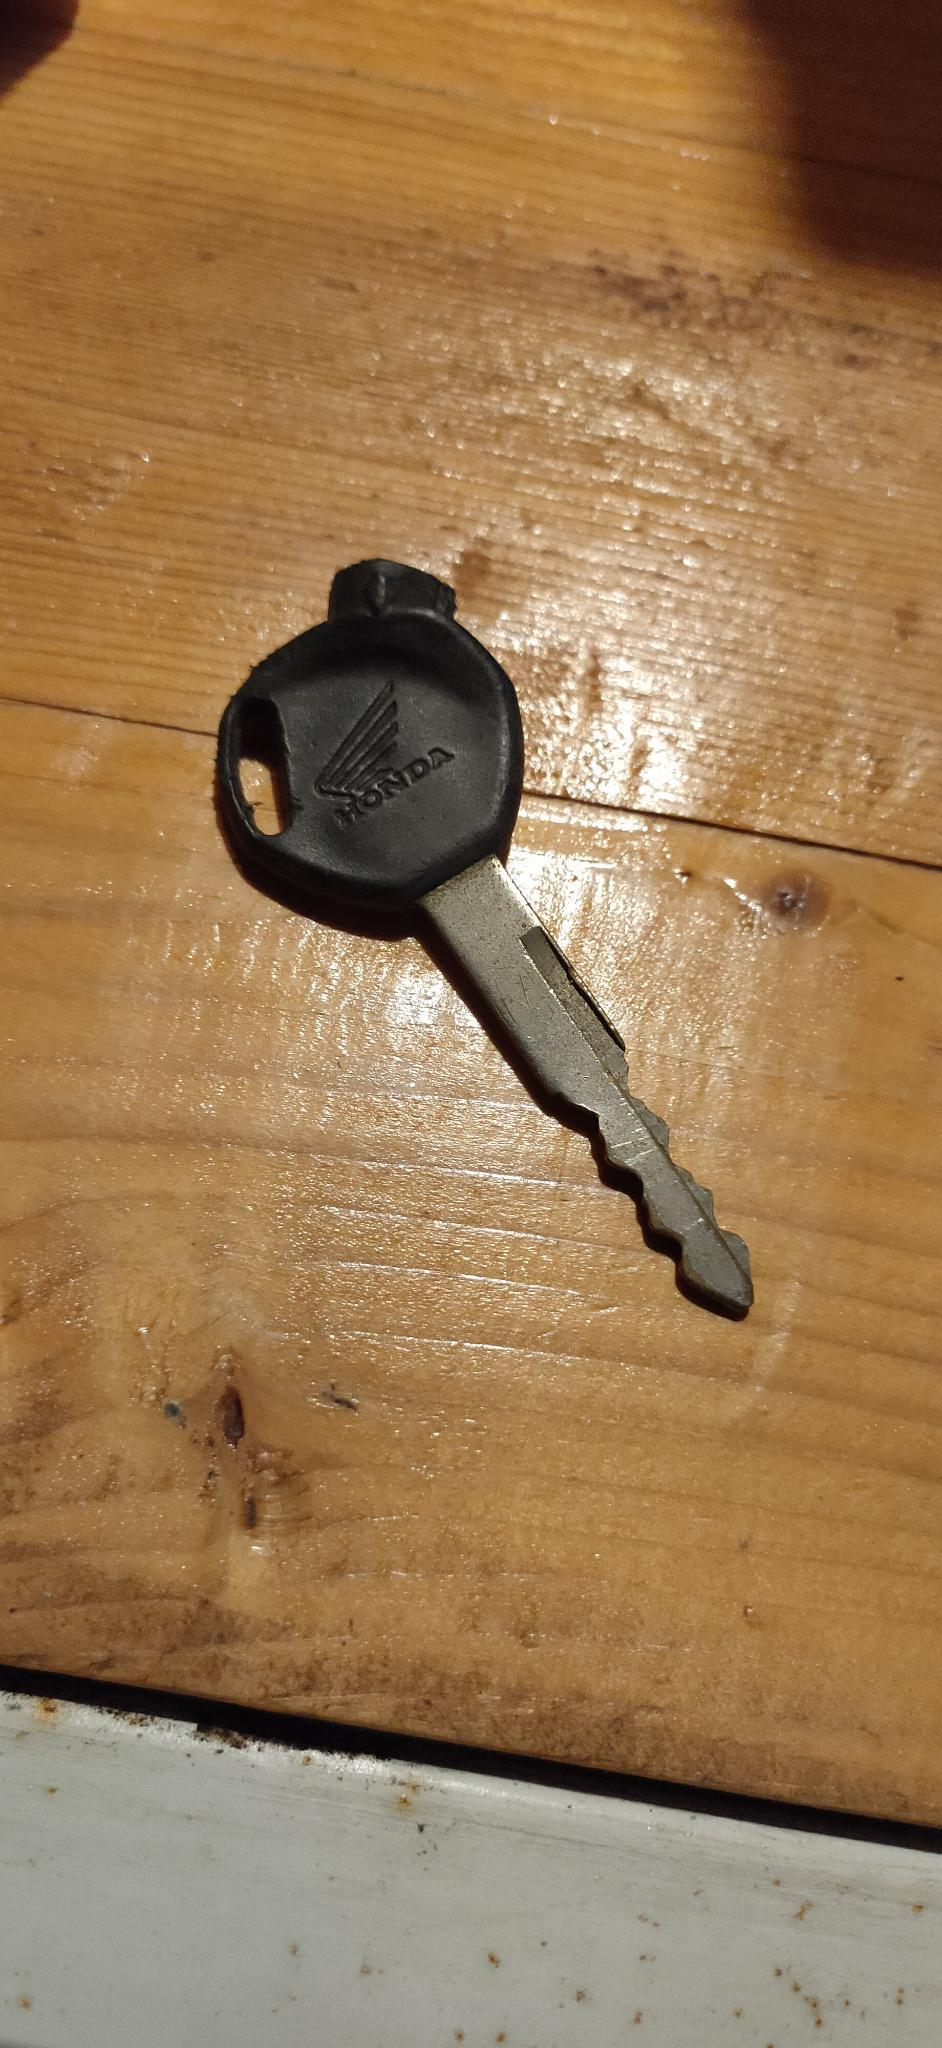keys: (192, 533, 779, 1331)
